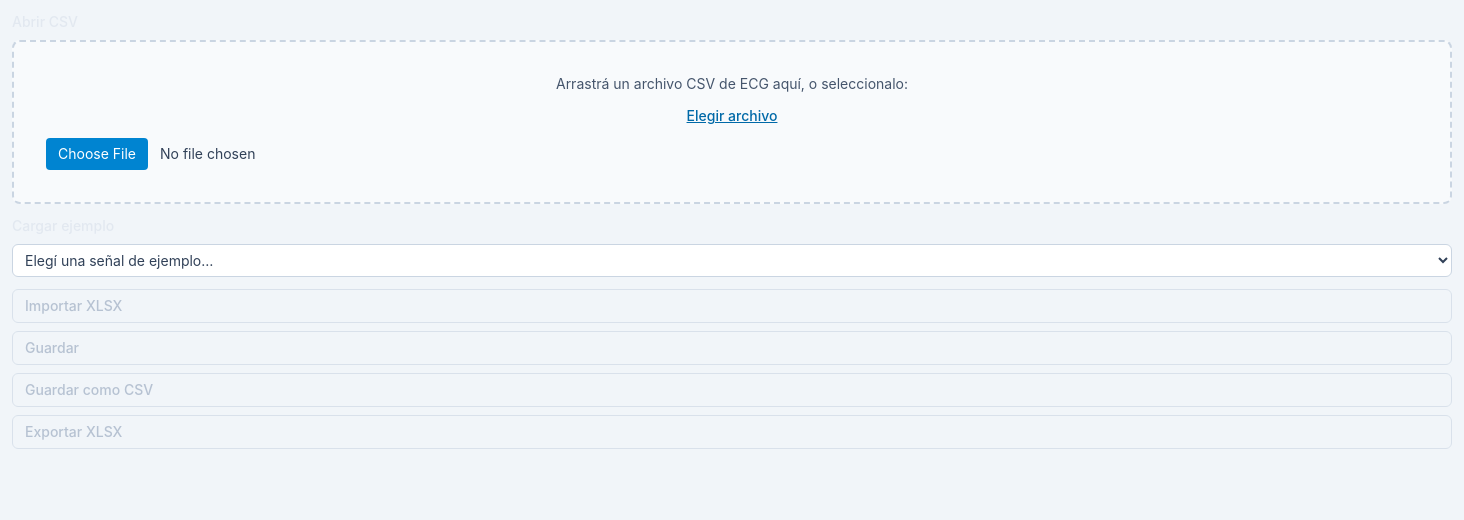
Test: FileSection — acciones de la sección "Archivo" (FEAT-009, Block 4) › un fallo al cargar un ejemplo muestra UNA sola alerta en la sección
Select "ECG_20_Seg_FILTRADO" in the dropdown named "Cargar ejemplo": (732, 260) 12,244 -> 1452,277
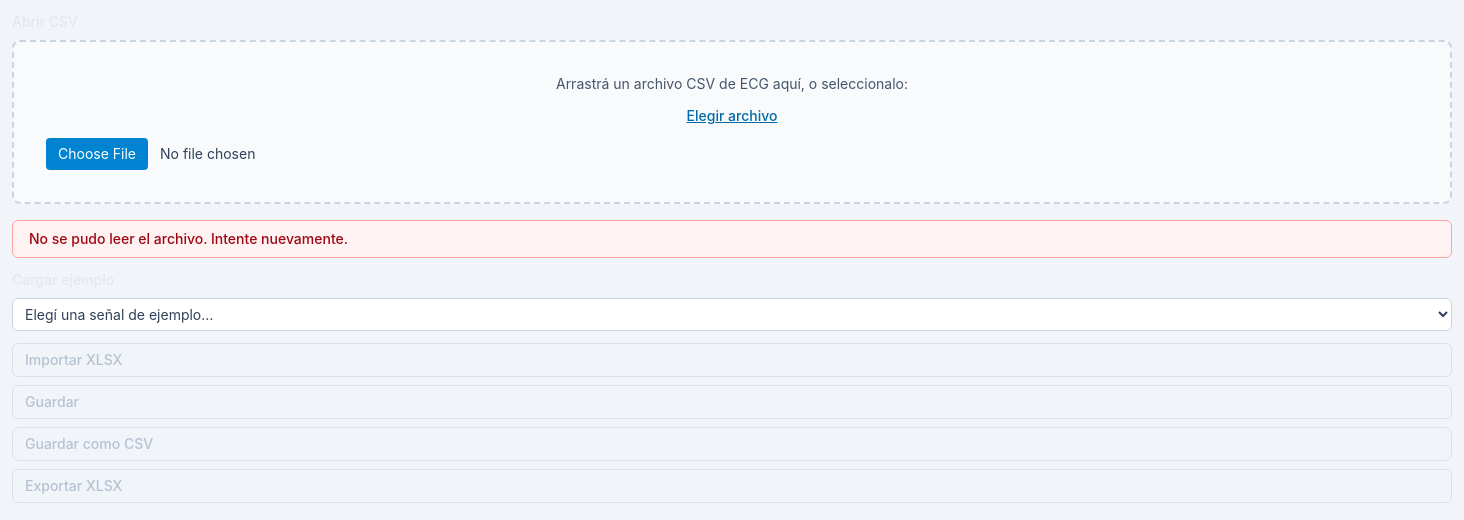
Now the number of messages is 1, box 12,220 -> 1452,258
Now the message reads "No se pudo leer el archivo. Intente nuevamente.", box 29,230 -> 348,247
